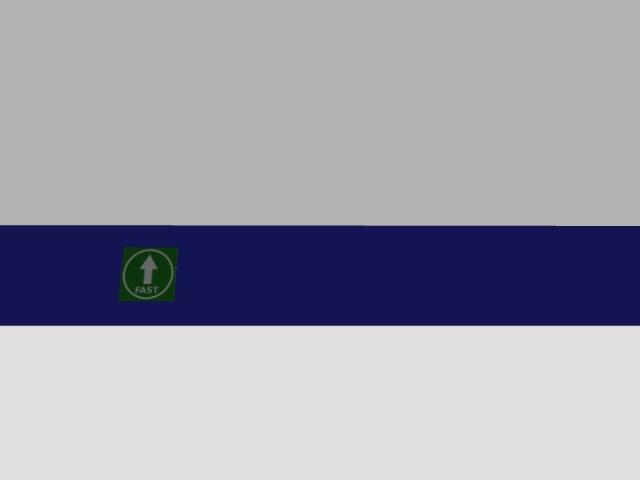fast: (120, 247, 177, 300)
